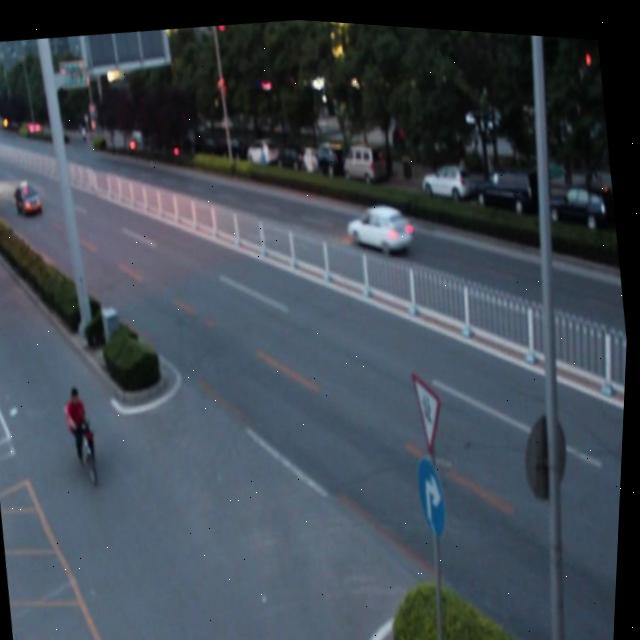car: (344, 191, 418, 255)
